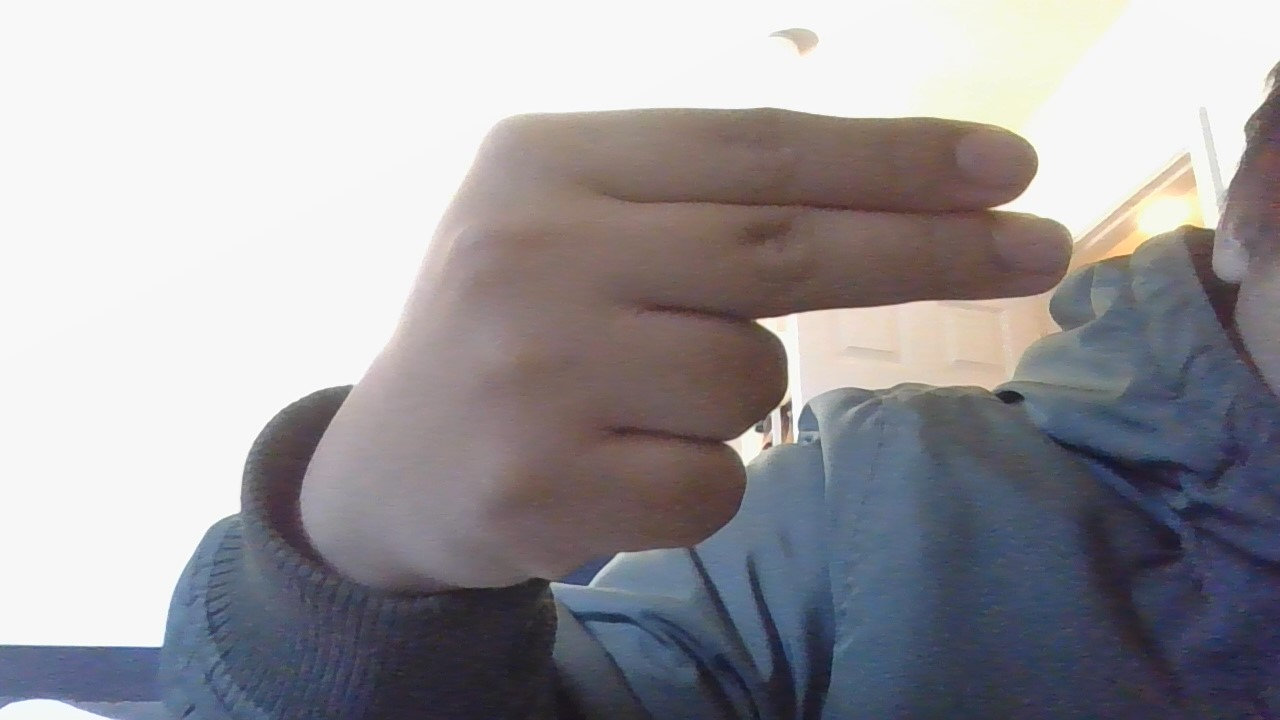h: (261, 52, 1099, 631)
